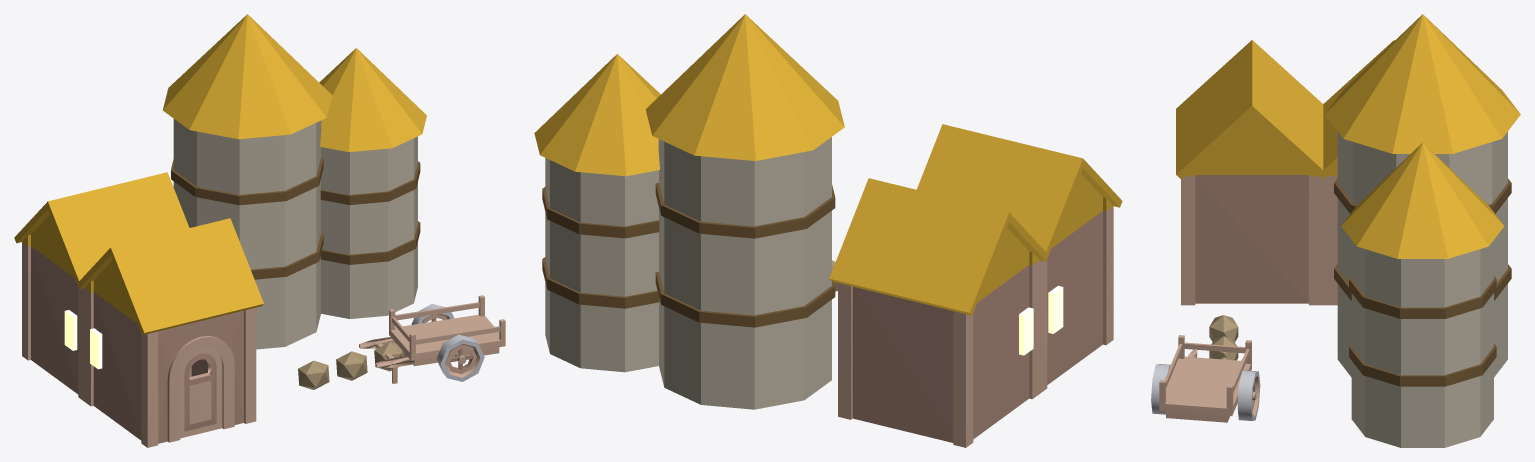
File: granary_l2.glb
3 views of the same model, side by side, from view 1: azimuth 30°, elevation 25°; view 2: azimuth 150°, elevation 25°; view 3: azimuth 270°, elevation 25° (orthographic). The views are drawn at different scales.
Parts seen in each view (by area): view 1: granary_l2; view 2: granary_l2; view 3: granary_l2.
Part boxes in pixels (x1,y1,x2,y2): granary_l2: (14, 14, 505, 447); granary_l2: (534, 14, 1122, 447); granary_l2: (1151, 14, 1520, 447).
Size of the model in its own units: 6.64 by 5.11 by 4.94.
